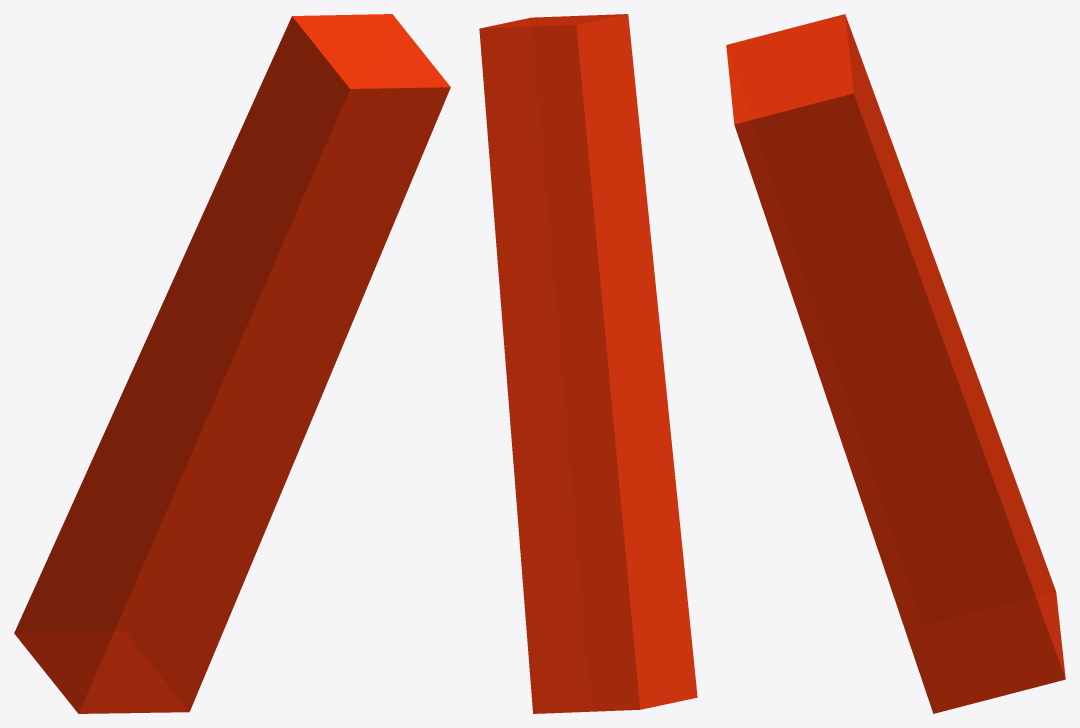
The model's file is Event_420094457_EBrechit_4.fbx.
3 renders of one model, left to right at view 1: azimuth 30°, elevation 25°; view 2: azimuth 150°, elevation 25°; view 3: azimuth 270°, elevation 25°, orthographic. The views are drawn at different scales.
Visible parts, largest first — view 1: Model; view 2: Model; view 3: Model.
Part boxes in pixels (bbox=[...]): Model: bbox=[14, 14, 450, 713]; Model: bbox=[479, 14, 697, 713]; Model: bbox=[726, 14, 1065, 713].
Bounding box in the file's own units: 0.1474 × 0.3596 × 0.1517.
